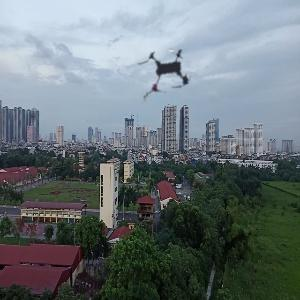drone: (109, 11, 225, 127)
